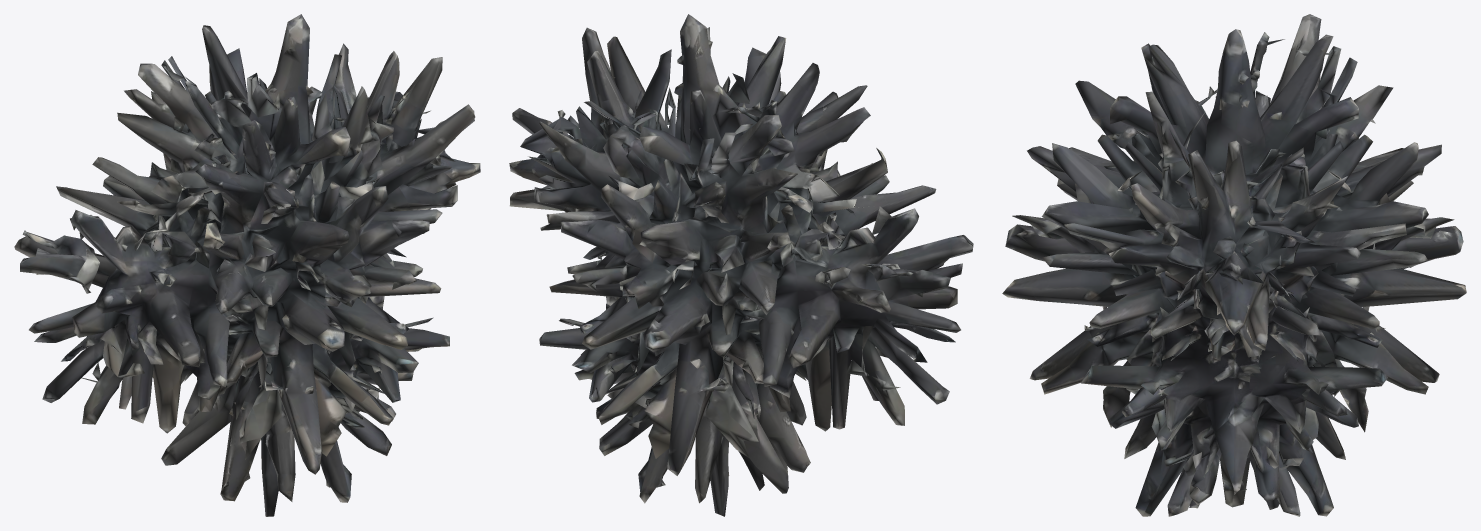
The model's file is pinsneedles.glb.
The picture shows the model from 3 angles, left to right: view 1: azimuth 30°, elevation 25°; view 2: azimuth 150°, elevation 25°; view 3: azimuth 270°, elevation 25°; orthographic projection. The views are drawn at different scales.
Visible parts, largest first — view 1: pinsneedles; view 2: pinsneedles; view 3: pinsneedles.
Boxes of the visible parts, <box> form: pinsneedles: <box>14,14,480,516</box>; pinsneedles: <box>509,14,973,516</box>; pinsneedles: <box>1002,14,1466,516</box>.
Bounding box in the file's own units: 0.9668 × 0.9753 × 0.8101.
Materials: 1 (1 with a texture image).
